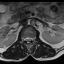CCS_normal: (27, 35, 29, 44)
LFS_normal: (31, 35, 34, 42)
LLS_normal: (29, 35, 31, 42)
RFS_normal: (23, 35, 25, 41)
RLS_normal: (25, 35, 27, 42)
